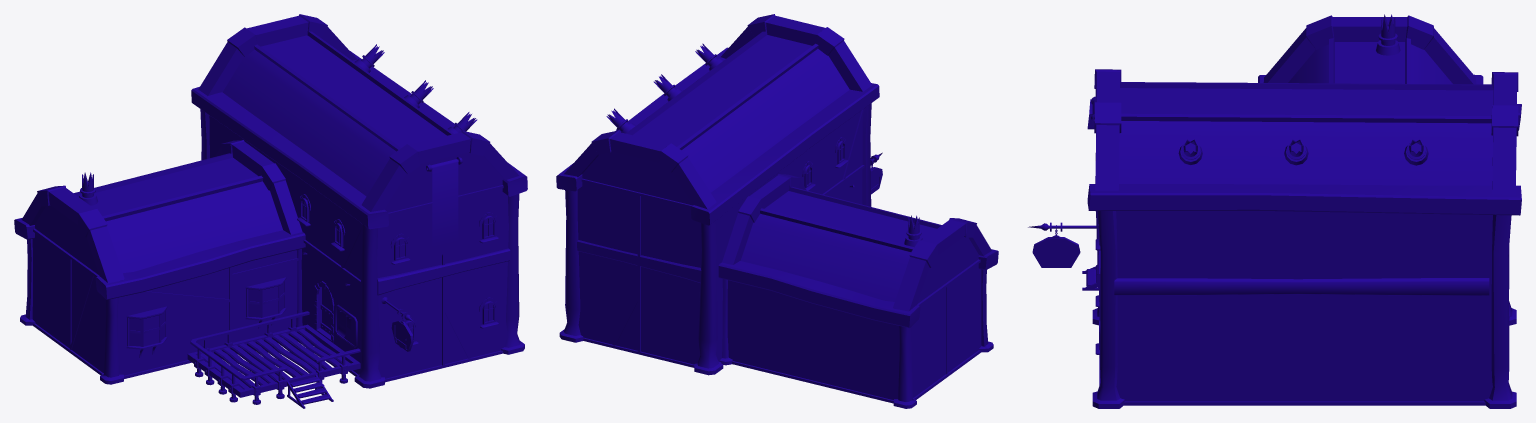
File: CG_Model_TownExt_Inn_Mar24_ChrisMcknight.FBX
3 renders of one model, left to right at view 1: azimuth 30°, elevation 25°; view 2: azimuth 150°, elevation 25°; view 3: azimuth 270°, elevation 25°, orthographic. The views are drawn at different scales.
Parts seen in each view (by area): view 1: Inn; view 2: Inn; view 3: Inn.
Boxes of the visible parts, x1=… form: Inn: x1=14, y1=14, x2=527, y2=408; Inn: x1=556, y1=14, x2=998, y2=408; Inn: x1=1028, y1=14, x2=1521, y2=408.
Bounding box in the file's own units: 265 × 161 × 263.
